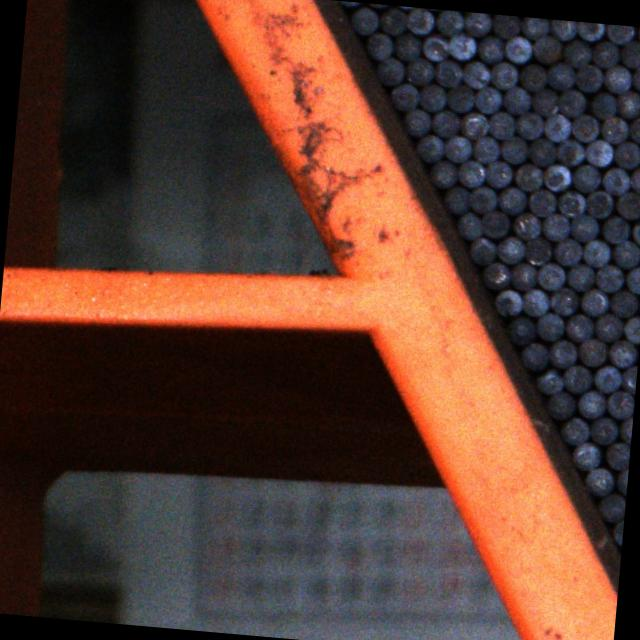tool: (561, 37, 592, 68), (562, 364, 592, 394), (578, 336, 608, 366), (460, 58, 490, 88), (584, 138, 614, 168), (532, 34, 562, 64), (568, 212, 598, 242), (548, 286, 578, 316), (540, 111, 570, 141), (494, 184, 524, 214), (610, 238, 640, 268), (569, 112, 599, 142), (526, 136, 556, 166), (488, 61, 518, 91), (486, 109, 516, 139), (552, 237, 582, 267), (518, 61, 548, 91), (402, 56, 432, 86), (512, 162, 542, 192), (570, 164, 600, 194), (526, 186, 556, 216), (494, 233, 524, 263), (599, 166, 629, 196), (350, 5, 379, 36), (377, 4, 406, 34), (584, 189, 613, 219), (576, 388, 605, 418), (547, 338, 576, 368), (606, 390, 635, 420), (472, 85, 501, 115), (564, 261, 594, 290), (544, 60, 574, 89), (592, 312, 621, 342), (535, 310, 564, 340), (541, 212, 570, 242), (605, 339, 635, 368), (513, 110, 542, 140), (541, 162, 570, 192), (599, 212, 628, 242), (466, 184, 496, 213), (561, 416, 590, 446), (416, 84, 446, 113), (522, 234, 551, 264), (563, 311, 592, 341), (529, 88, 558, 118), (432, 57, 462, 86), (574, 62, 603, 92), (427, 158, 456, 187), (503, 35, 532, 64), (415, 134, 444, 163), (480, 210, 509, 239), (429, 109, 458, 138), (579, 289, 608, 318), (611, 140, 640, 169), (390, 81, 419, 110), (482, 159, 511, 188), (392, 32, 421, 61), (444, 83, 473, 112), (498, 135, 526, 165), (612, 190, 640, 220), (602, 63, 630, 93), (582, 238, 610, 268), (457, 158, 485, 188), (502, 84, 530, 114), (546, 390, 574, 420), (598, 492, 626, 522), (586, 467, 614, 497), (572, 440, 600, 470), (556, 190, 586, 218), (598, 116, 628, 144), (556, 88, 584, 118), (458, 110, 488, 138), (534, 366, 564, 394), (444, 135, 472, 164), (536, 261, 564, 290), (364, 31, 392, 60), (374, 57, 402, 86), (508, 261, 536, 290), (442, 185, 470, 214), (448, 33, 477, 61), (592, 364, 620, 393), (608, 289, 636, 318), (591, 40, 620, 68), (512, 212, 541, 240), (520, 340, 548, 369), (590, 415, 618, 444), (468, 235, 496, 264), (508, 315, 536, 344), (588, 90, 617, 118), (471, 134, 498, 164), (404, 6, 432, 34), (475, 34, 503, 62), (594, 264, 622, 292), (520, 288, 548, 316), (481, 260, 509, 288), (556, 138, 584, 166), (494, 288, 522, 316), (402, 107, 429, 136), (434, 9, 464, 35), (614, 88, 640, 118), (422, 33, 449, 61), (604, 439, 630, 468), (456, 211, 482, 240), (489, 14, 518, 38), (462, 12, 490, 36), (518, 16, 548, 38), (618, 38, 640, 67), (547, 19, 576, 40), (605, 24, 634, 44), (621, 314, 640, 342), (574, 22, 602, 40), (623, 265, 640, 294), (620, 365, 637, 394), (614, 468, 628, 497), (618, 415, 632, 444), (628, 163, 640, 193), (628, 116, 640, 145), (612, 518, 624, 545), (630, 216, 640, 244), (631, 63, 640, 92)
